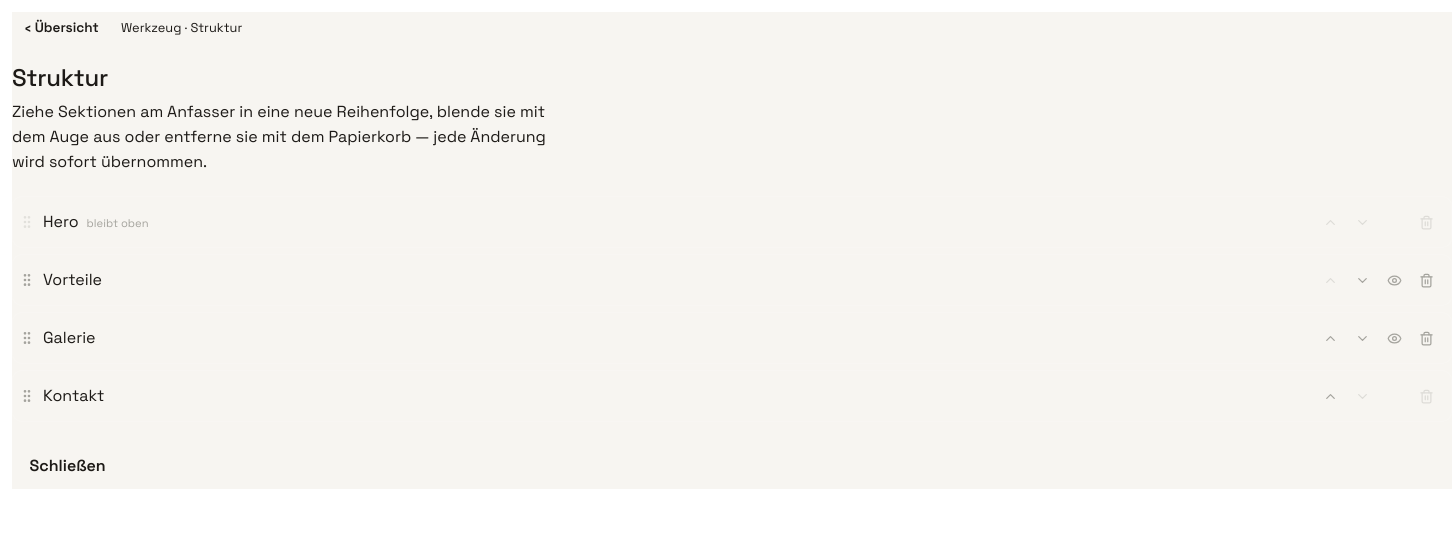
Test: Struktur-Panel: Abschnitt entfernen › Einstieg und Kontakt: Entfernen gesperrt, mit Begründung
// Antippen (Handy, kein Tooltip) zeigt die Begründung, entfernt nichts.
Step 1. Click the button named "Kontakt kann nicht entfernt werden" → (1426, 396), box [1411, 381, 1441, 411]
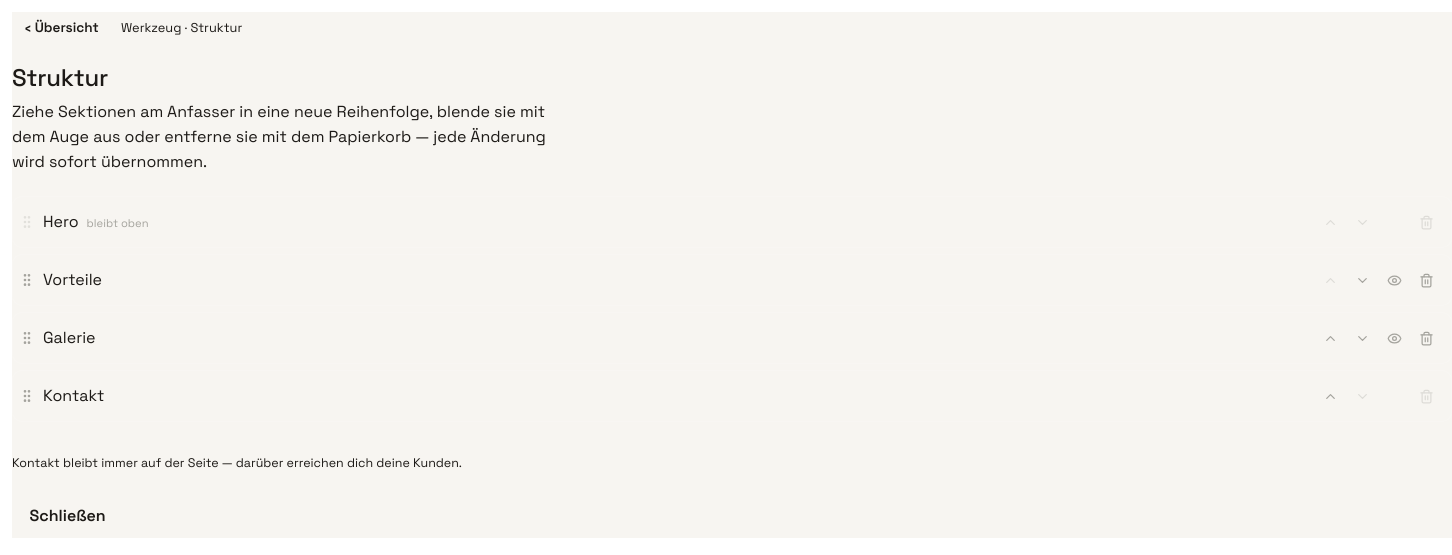
Now the text "Kontakt bleibt" is shown, box [12, 455, 462, 471]
